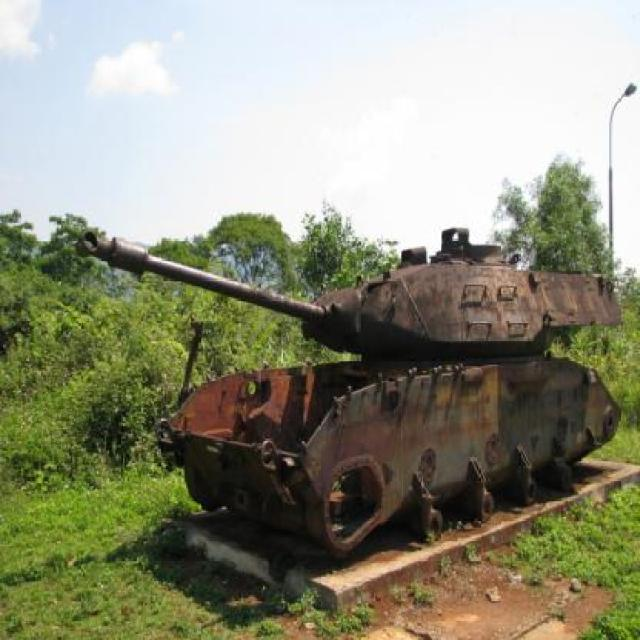corrosion: (84, 224, 625, 562)
